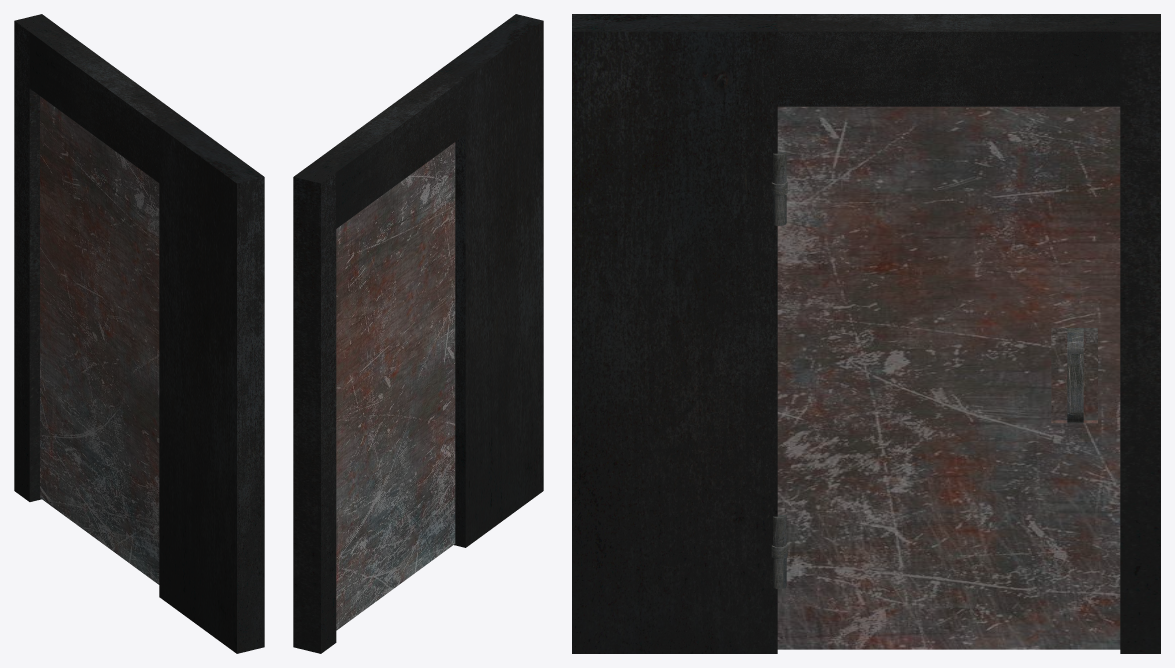
Rendered from DoorHandle.fbx.
The picture shows the model from 3 angles, left to right: view 1: azimuth 30°, elevation 25°; view 2: azimuth 150°, elevation 25°; view 3: azimuth 270°, elevation 25°; orthographic projection. The views are drawn at different scales.
Visible parts, largest first — view 1: Cube.057, Cube.051, Cube.052, Cube.056; view 2: Cube.051, Cube.057, Cube.052, Cube.056; view 3: Cube.051, Cube.057, Cube.056, Cube.052, Cube.058, Cylinder.000, Cylinder.032.
Boxes of the visible parts, box(x1,y1,x2,y2) form: Cube.057: box(159, 120, 264, 653); Cube.051: box(40, 96, 159, 584); Cube.052: box(14, 14, 56, 501); Cube.056: box(29, 25, 186, 182); Cube.051: box(336, 142, 455, 630); Cube.057: box(438, 14, 543, 547); Cube.052: box(293, 166, 336, 653); Cube.056: box(309, 71, 465, 228); Cube.051: box(777, 106, 1120, 649); Cube.057: box(572, 14, 777, 653); Cube.056: box(777, 14, 1120, 106); Cube.052: box(1120, 14, 1160, 653); Cube.058: box(1067, 328, 1083, 423); Cylinder.000: box(771, 152, 787, 225); Cylinder.032: box(771, 515, 787, 588).
Size of the model in its own units: 108 by 1239 by 1062.
